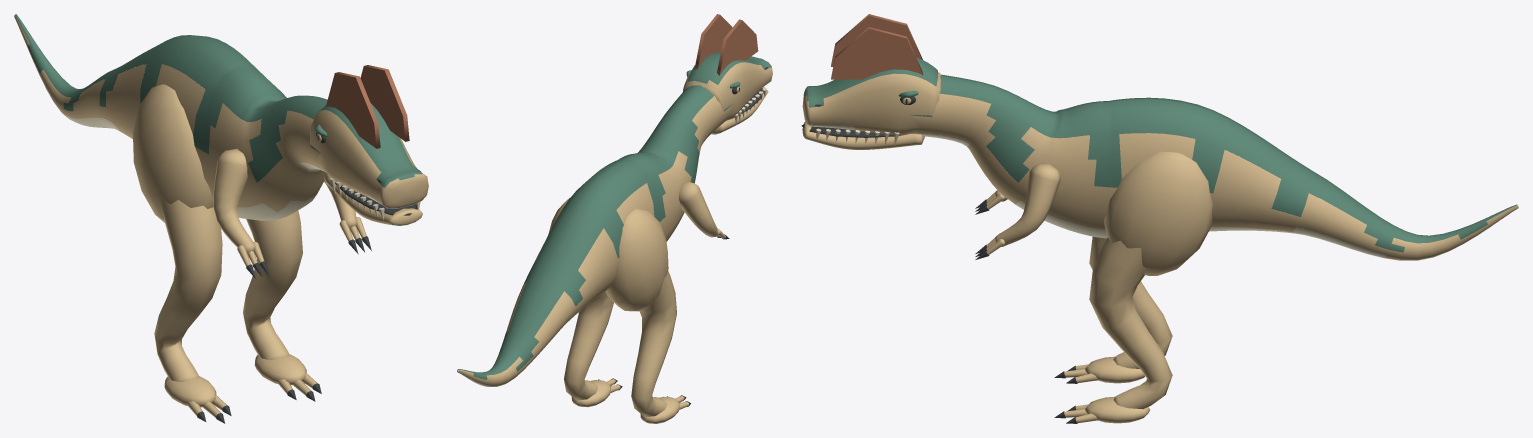
The model's file is primeval-frontier-dilophosaurus-2a1eced1__1694.glb.
3 views of the same model, side by side, from view 1: azimuth 30°, elevation 25°; view 2: azimuth 150°, elevation 25°; view 3: azimuth 270°, elevation 25° (orthographic). The views are drawn at different scales.
Parts seen in each view (by area): view 1: dilophosaurus; view 2: dilophosaurus; view 3: dilophosaurus.
Boxes of the visible parts, <box> form: dilophosaurus: <box>14,14,428,423</box>; dilophosaurus: <box>457,14,772,423</box>; dilophosaurus: <box>801,14,1518,423</box>.
Bounding box in the file's own units: 1.08 × 3.12 × 5.36.
